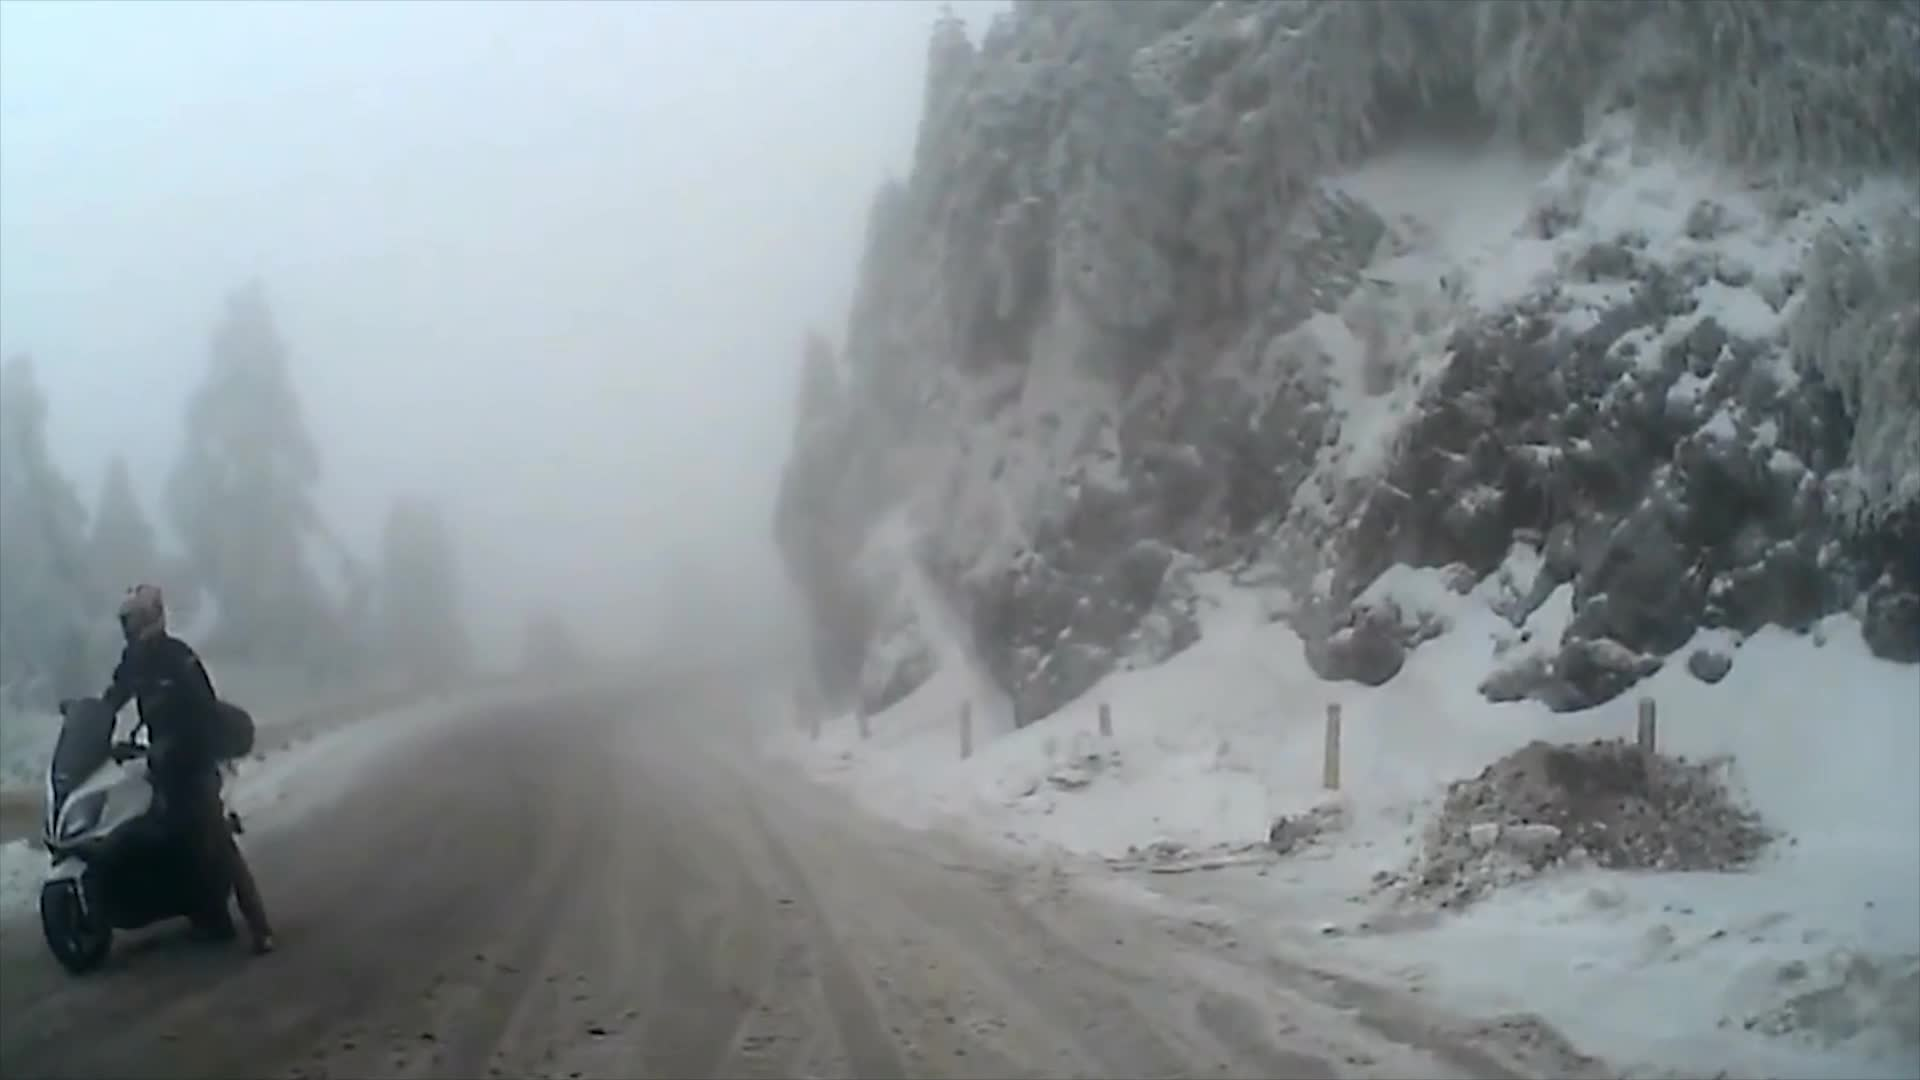pedestrian: (77, 569, 278, 949)
